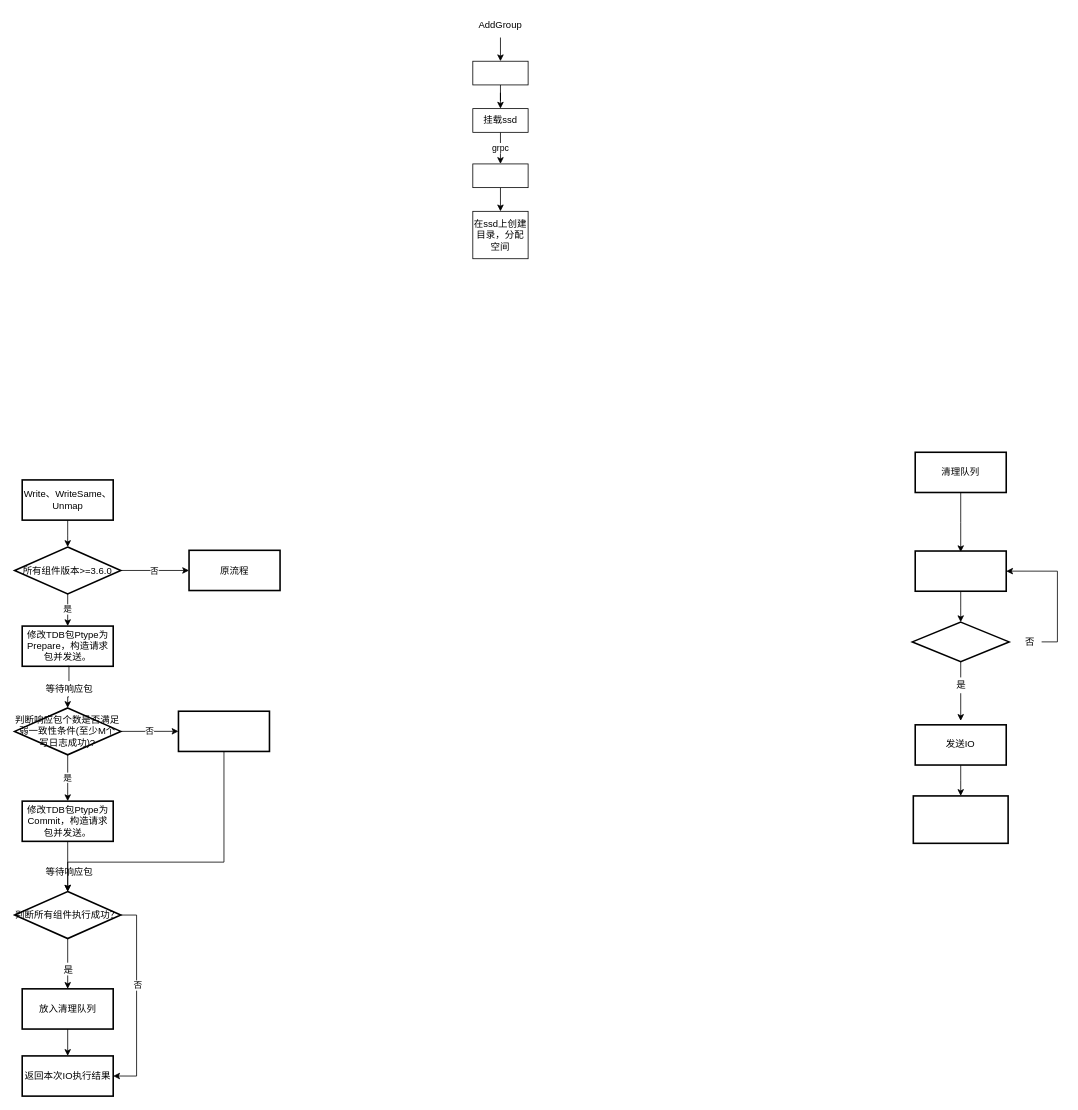
Image size: 1078x1110. Some labels were removed from this diagram. Each missing label, with the centre of its shape:
"usd" goes at pixel 500 175.
"USD执行清理" goes at pixel 960 819.
"USM" goes at pixel 500 72.
"修改TDB包Ptype为Abort，构造请求包并发送。" goes at pixel 223 731.
"统计IO或大小" goes at pixel 960 571.
"超过阈值？" goes at pixel 960 641.
